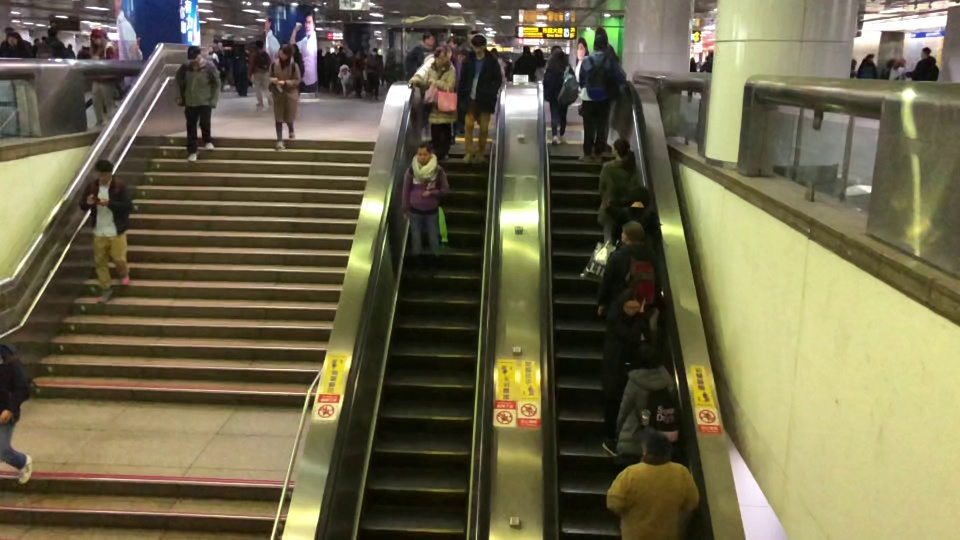person_head: (638, 431, 670, 458), (634, 340, 662, 367), (619, 289, 642, 315), (620, 220, 645, 243), (93, 159, 113, 184), (612, 137, 631, 157), (631, 185, 649, 203), (470, 34, 487, 52), (187, 46, 202, 64), (277, 44, 292, 61), (415, 143, 430, 160), (434, 46, 447, 63), (89, 31, 104, 45), (6, 32, 20, 46), (422, 31, 436, 45), (594, 35, 607, 49), (551, 48, 564, 58), (47, 27, 59, 37), (255, 39, 265, 49), (522, 45, 531, 55), (920, 47, 930, 56), (895, 58, 905, 65), (865, 53, 874, 60), (887, 58, 894, 67), (371, 47, 378, 54), (341, 64, 347, 72), (707, 52, 713, 60), (354, 50, 360, 56), (851, 58, 856, 65), (691, 57, 695, 62)
person_vbox: (606, 430, 699, 524), (78, 159, 136, 306), (614, 340, 684, 461), (600, 289, 645, 458), (400, 143, 450, 273), (596, 220, 661, 318), (578, 35, 625, 163), (173, 46, 222, 163), (407, 46, 457, 158), (459, 35, 502, 164), (0, 343, 37, 484), (596, 137, 641, 243), (265, 44, 302, 150), (543, 48, 579, 144), (88, 31, 118, 125), (611, 186, 649, 245), (247, 38, 272, 112), (404, 31, 436, 79), (905, 47, 938, 81), (364, 46, 383, 101), (35, 27, 68, 58), (514, 44, 536, 79), (350, 49, 364, 99), (4, 32, 31, 57), (857, 53, 878, 79), (888, 58, 906, 81), (687, 56, 695, 101), (338, 64, 348, 97), (879, 58, 894, 80), (699, 52, 714, 72), (850, 58, 856, 78)
